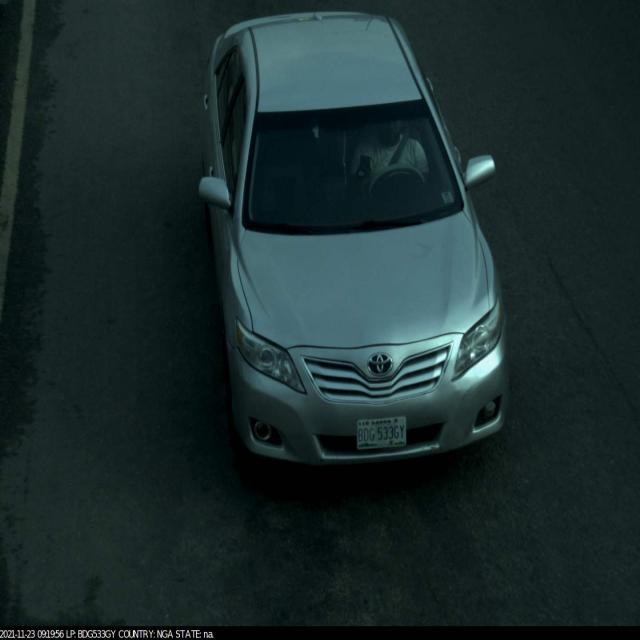windshield: (235, 96, 460, 238)
